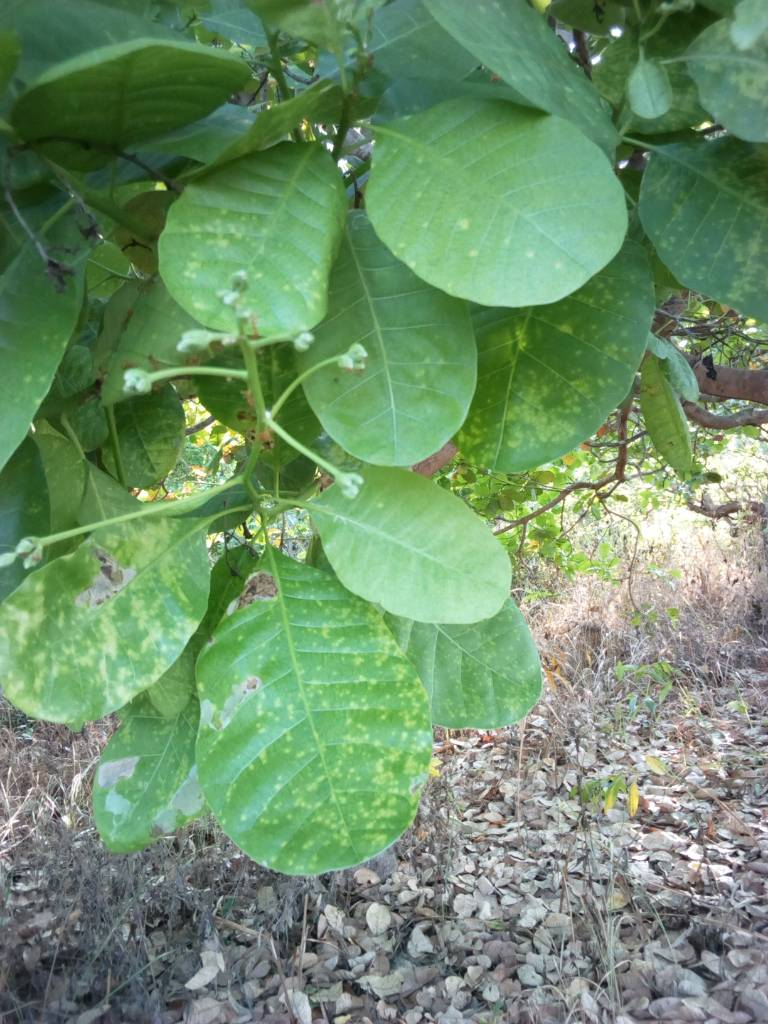Carence minérale: (171, 544, 504, 905), (461, 238, 661, 511), (1, 499, 229, 732), (141, 150, 361, 353), (608, 142, 768, 347)
